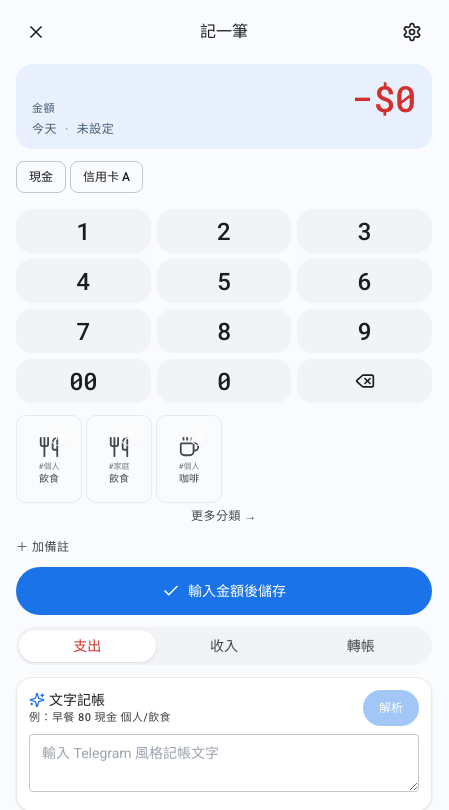
Test: QuickEntryPage (M3 v2.0) › toasts when 收入 / 轉帳 segments are tapped (v2.1 placeholder)
Expected: the text "記一筆" is shown, [200,20,248,44]
Click the button "收入".
click(224, 646)  # box [156,630,292,662]
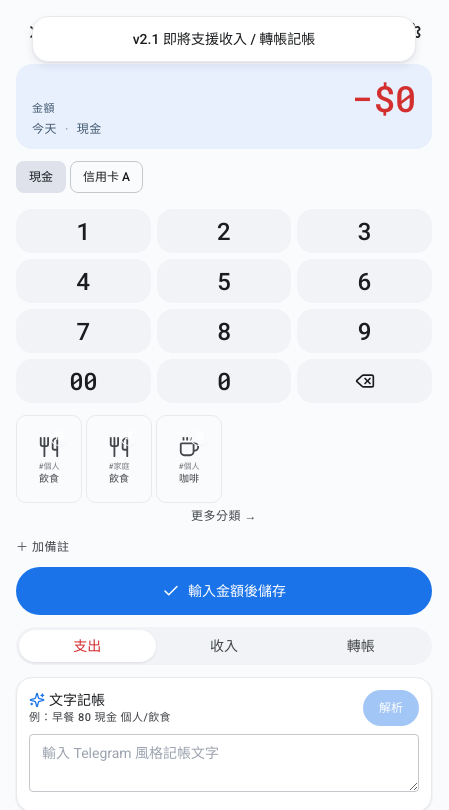
Result: the text "v2.1 即將支援收入 / 轉帳記帳" is shown at [133,29,315,49]
